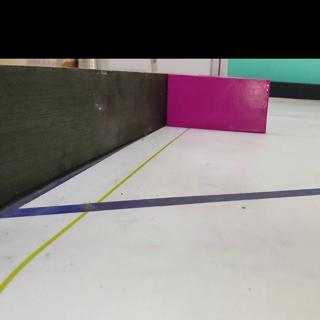xparking: (171, 76, 266, 132)
